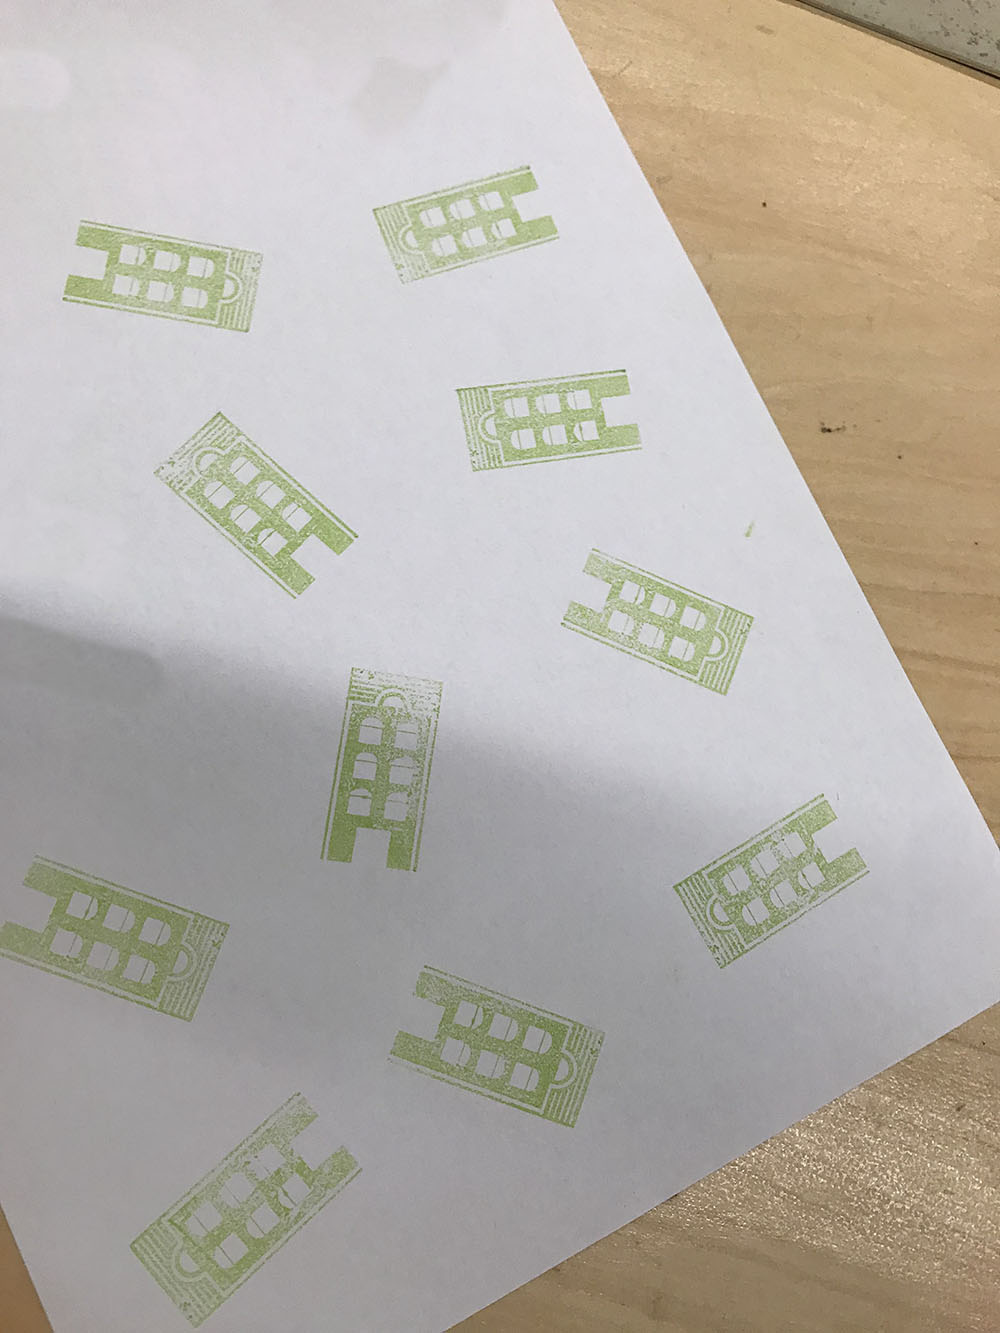build: (121, 383, 402, 624), (125, 1079, 372, 1331), (1, 835, 259, 1040), (525, 524, 778, 729), (371, 950, 621, 1140), (654, 778, 889, 978), (290, 653, 477, 896), (32, 183, 286, 357), (346, 139, 585, 315), (432, 360, 667, 483)
